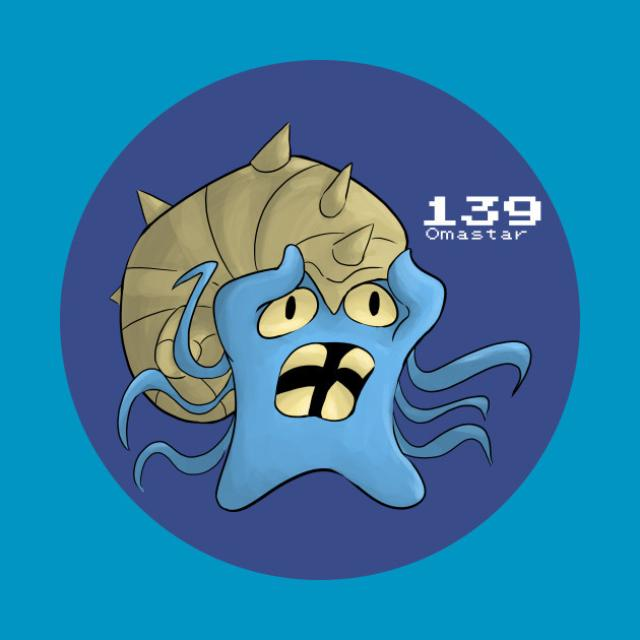Omastar: (119, 156, 436, 514)
